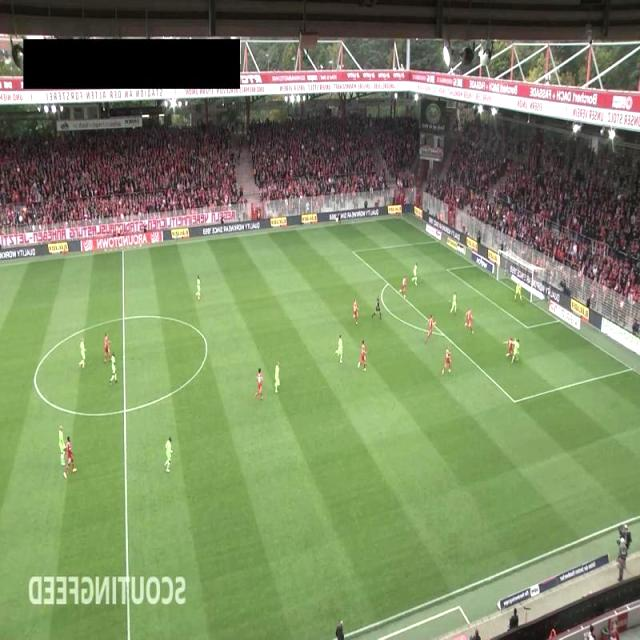bigarea_bottom_inner: (510, 397, 520, 408)
bigarea_bottom_outter: (626, 363, 638, 374)
bigarea_top_inner: (347, 248, 358, 258)
bigarea_top_outter: (433, 236, 444, 248)
bottom_arc_area_intersection: (438, 330, 449, 340)
corner: (395, 213, 406, 224)
halfcircle_bottom: (119, 406, 130, 416)
halfcircle_top: (118, 314, 128, 324)
midline_top_intersection: (118, 246, 128, 256)
smallarea_bottom_inner: (522, 322, 532, 333)
smallarea_bottom_outter: (554, 316, 564, 326)
smallarea_top_inner: (442, 266, 452, 276)
smallarea_top_outter: (470, 260, 481, 271)
top_arc_area_intersection: (382, 278, 393, 290)
